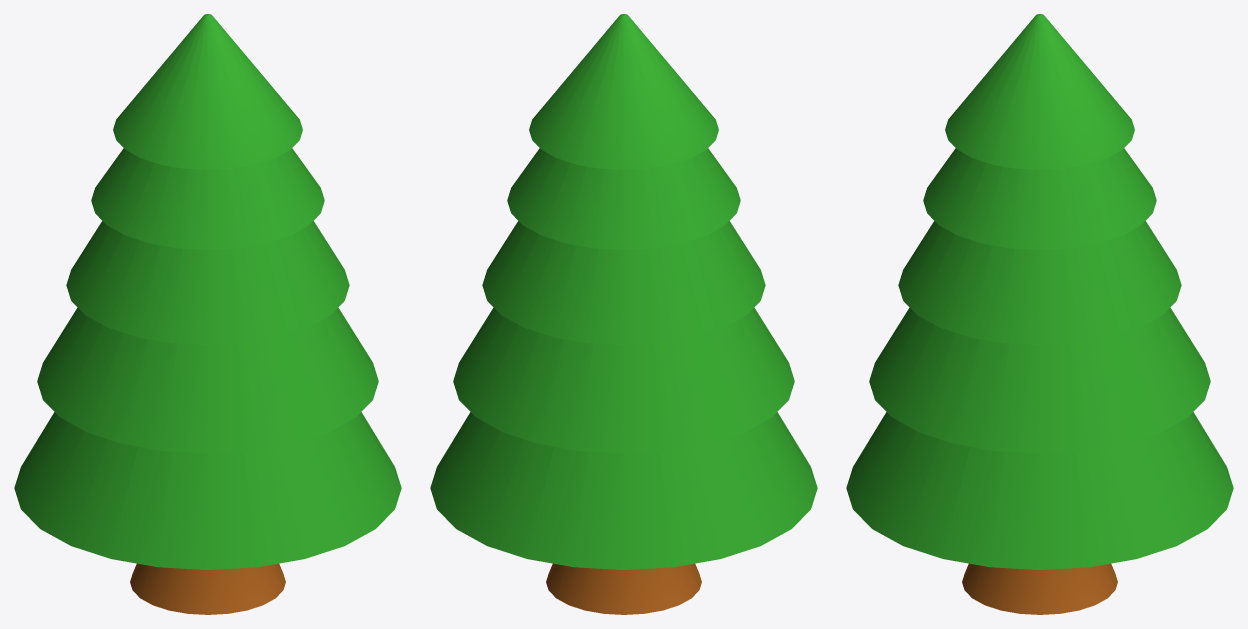
File: Tree.fbx
3 renders of one model, left to right at view 1: azimuth 30°, elevation 25°; view 2: azimuth 150°, elevation 25°; view 3: azimuth 270°, elevation 25°, orthographic.
Parts seen in each view (by area): view 1: Tree; view 2: Tree; view 3: Tree.
Boxes of the visible parts, x1,y1,x2,y2 form: Tree: (14, 14, 401, 614); Tree: (430, 14, 817, 614); Tree: (846, 14, 1233, 614).
Size of the model in its own units: 2.42 by 3.91 by 2.42.
